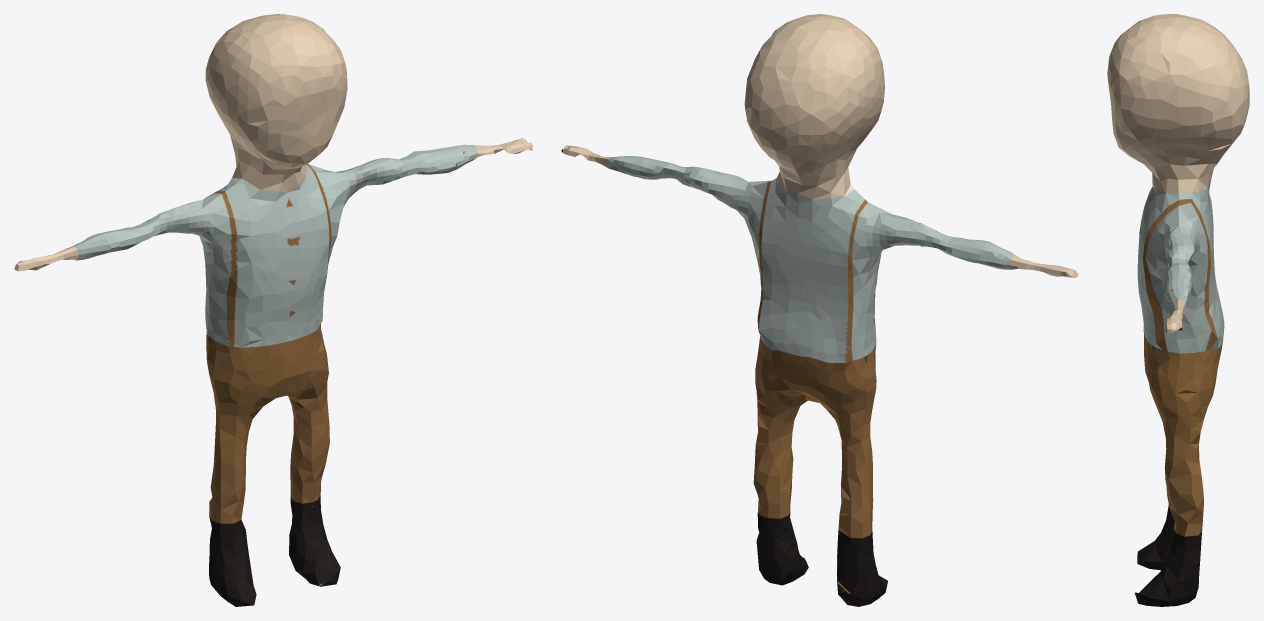
The model's file is boy_1.fbx.
3 views of the same model, side by side, from view 1: azimuth 30°, elevation 25°; view 2: azimuth 150°, elevation 25°; view 3: azimuth 270°, elevation 25° (orthographic).
Visible parts, largest first — view 1: boy_.001; view 2: boy_.001; view 3: boy_.001.
Boxes of the visible parts, left/top/right/bottom form: boy_.001: left=14, top=14, right=532, bottom=606; boy_.001: left=561, top=14, right=1078, bottom=606; boy_.001: left=1107, top=14, right=1249, bottom=606.
Bounding box in the file's own units: 328 × 346 × 78.8.
Materials: 1 (1 with a texture image).
